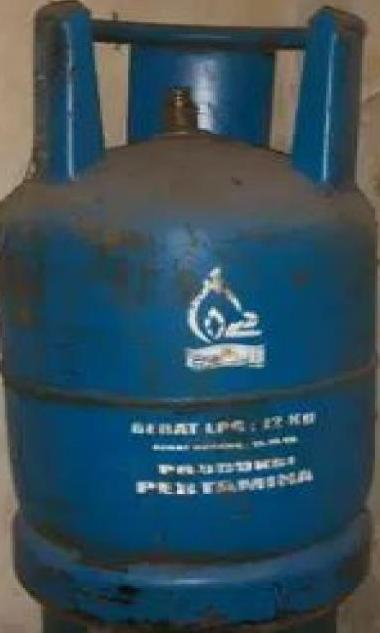cylinder: (1, 1, 380, 633)
